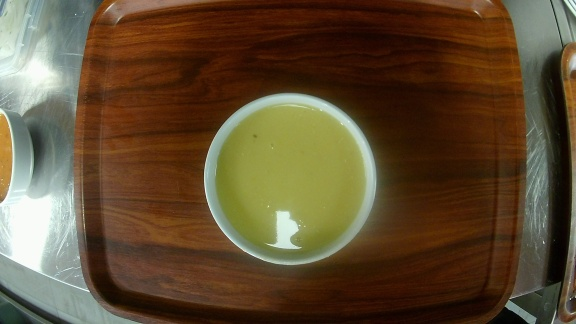mercimek: (200, 89, 380, 265)
